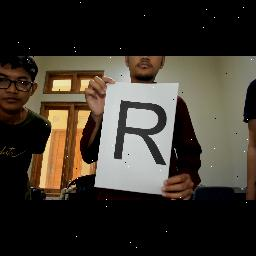r: (100, 94, 170, 172)
